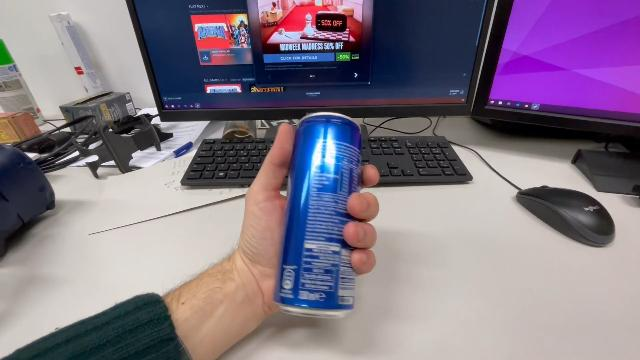Pepsi: (270, 107, 364, 321)
